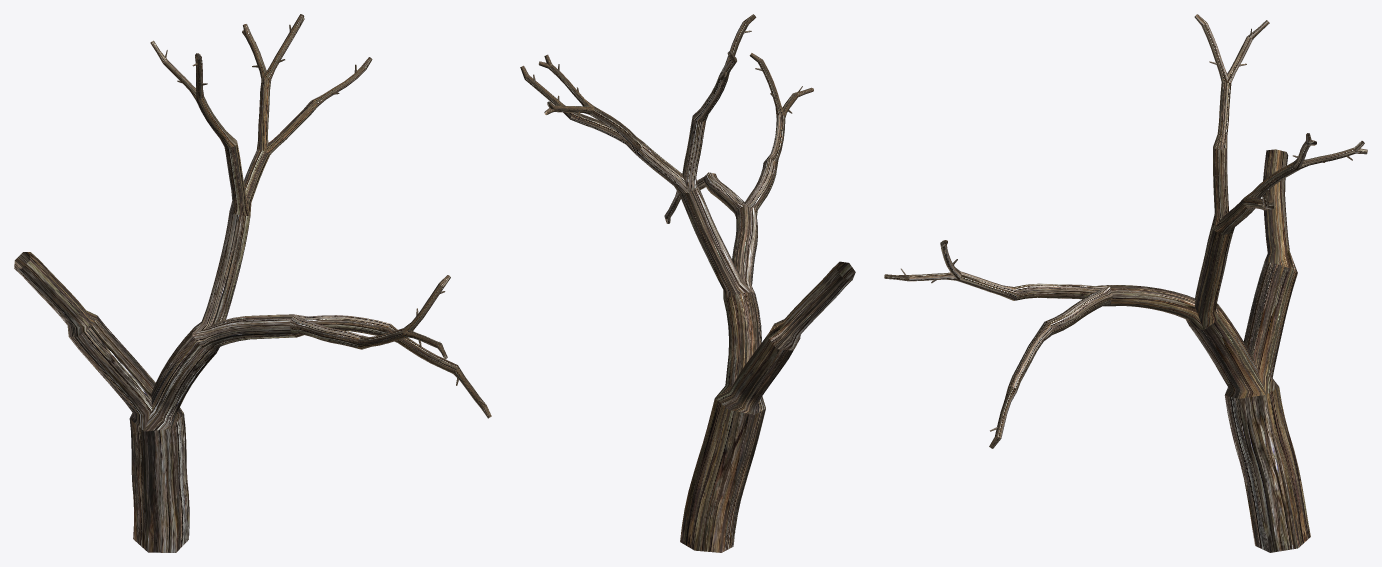
File: bare_01.obj
3 views of the same model, side by side, from view 1: azimuth 30°, elevation 25°; view 2: azimuth 150°, elevation 25°; view 3: azimuth 270°, elevation 25° (orthographic). The views are drawn at different scales.
Visible parts, largest first — view 1: treeBare_01; view 2: treeBare_01; view 3: treeBare_01.
Boxes of the visible parts, x1,y1,x2,y2 form: treeBare_01: (14, 14, 491, 552); treeBare_01: (520, 14, 855, 552); treeBare_01: (884, 14, 1367, 552).
Size of the model in its own units: 19.31 by 27.47 by 22.8.
1 material, 1 textured.
